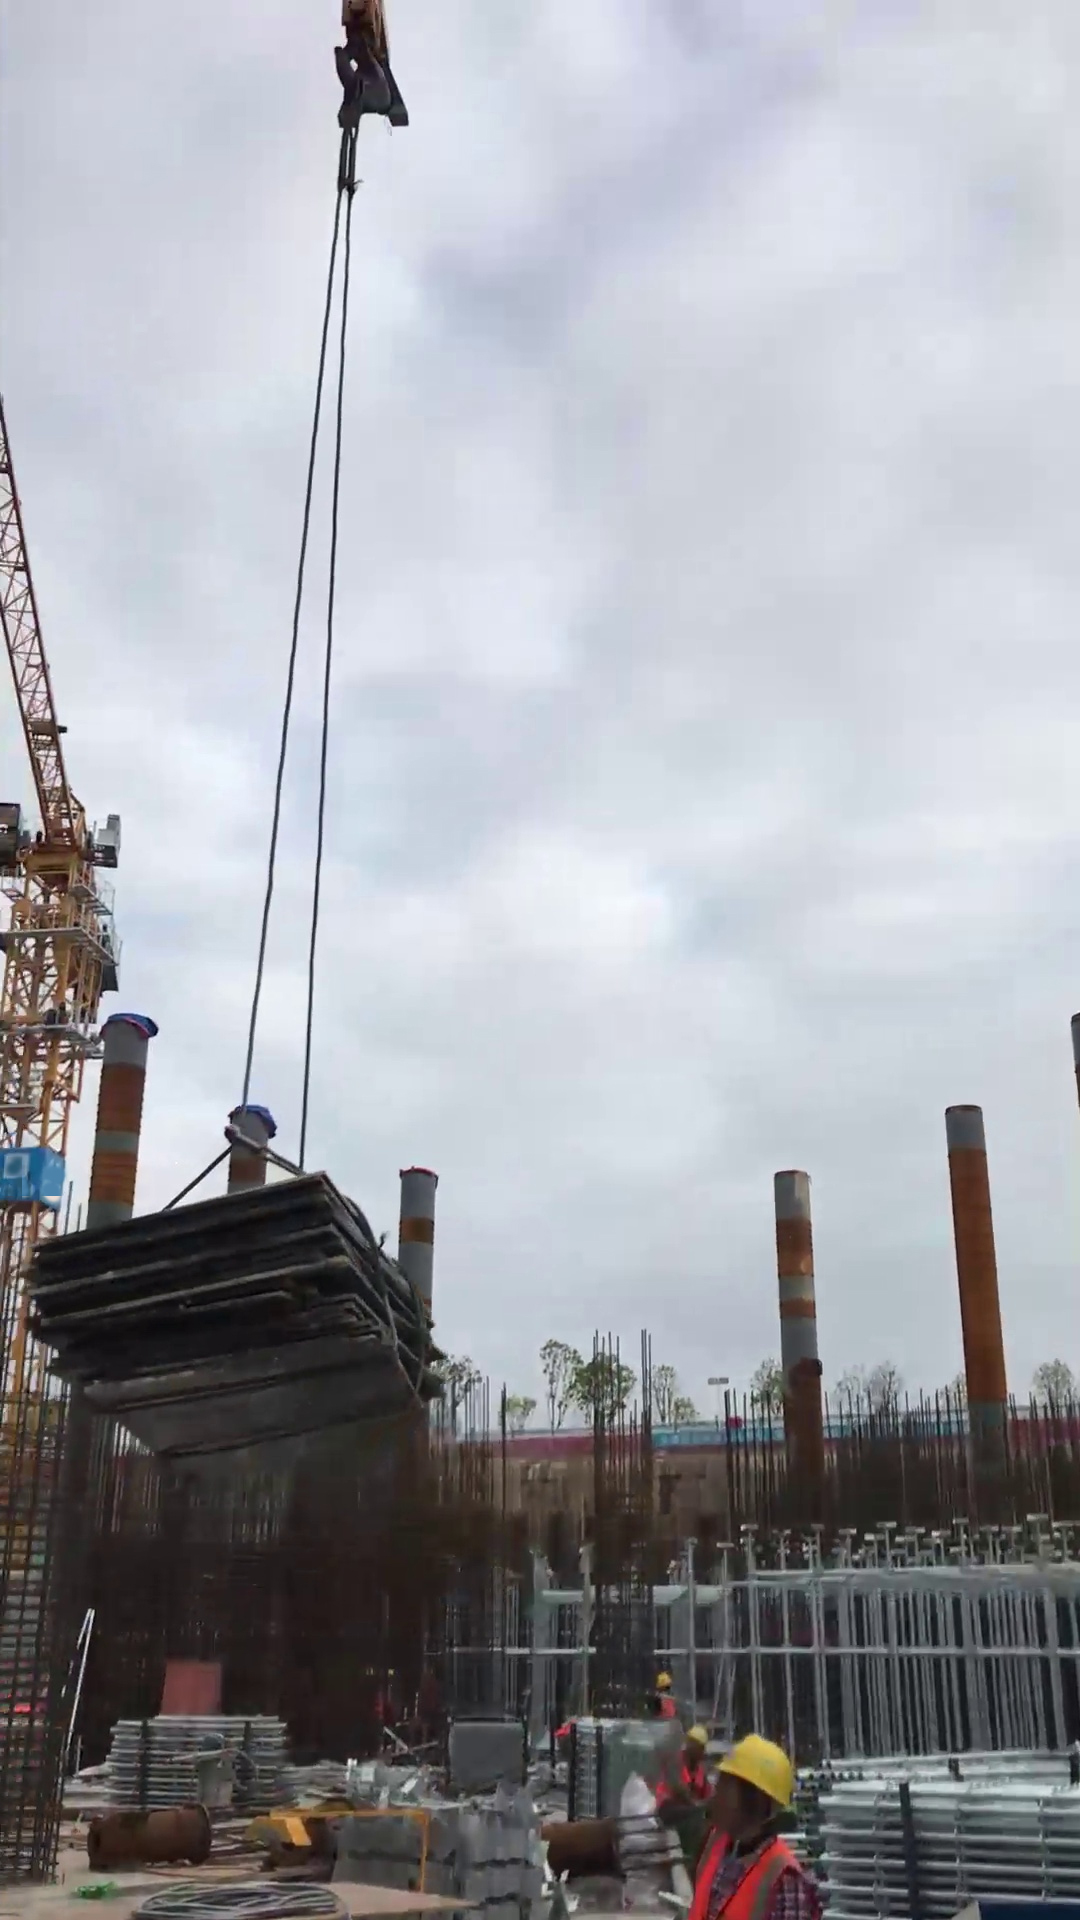board: (18, 1158, 466, 1496)
helmet: (711, 1729, 798, 1815), (681, 1724, 712, 1754)
hook: (308, 1, 428, 153)
person: (679, 1727, 832, 1920), (642, 1721, 720, 1887)
scaffold: (812, 1768, 1076, 1920), (100, 1697, 305, 1823)
vest: (687, 1824, 821, 1920), (645, 1757, 714, 1816)
